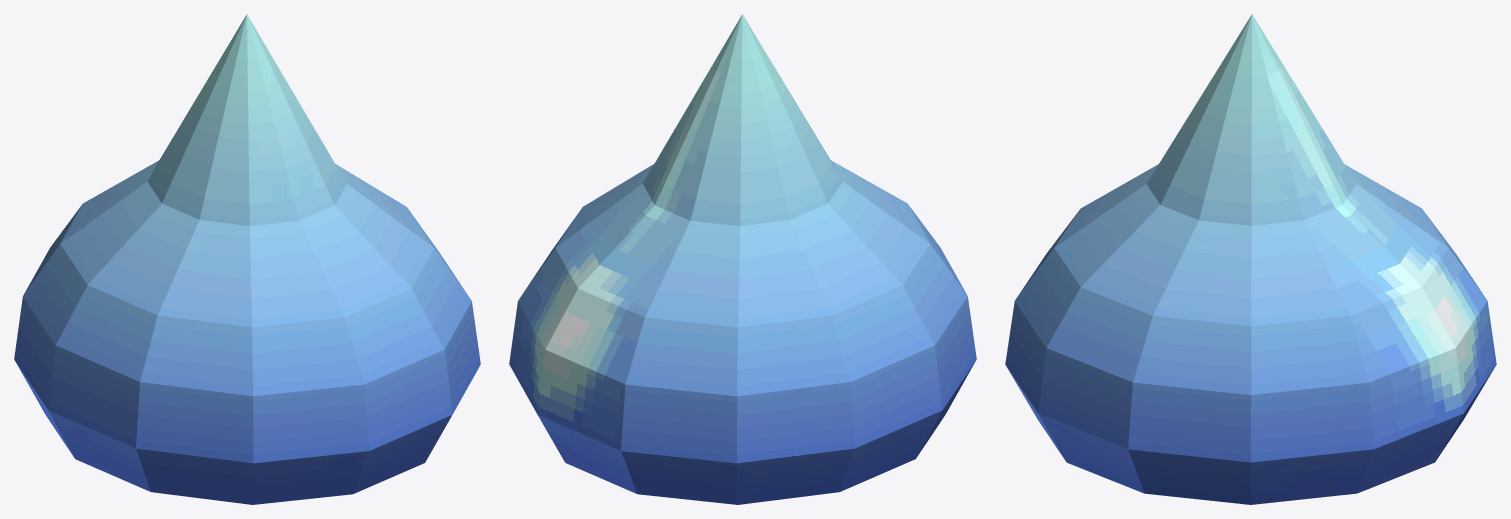
Rendered from BouncingBomb.obj.
The picture shows the model from 3 angles, left to right: view 1: azimuth 30°, elevation 25°; view 2: azimuth 150°, elevation 25°; view 3: azimuth 270°, elevation 25°; orthographic projection.
Visible parts, largest first — view 1: Mesh.206_DrawCall_328; view 2: Mesh.206_DrawCall_328; view 3: Mesh.206_DrawCall_328.
Boxes of the visible parts, left/top/right/bottom form: Mesh.206_DrawCall_328: left=14, top=14, right=480, bottom=504; Mesh.206_DrawCall_328: left=509, top=14, right=976, bottom=504; Mesh.206_DrawCall_328: left=1005, top=14, right=1496, bottom=504.
Bounding box in the file's own units: 10.4 × 10.04 × 11.01.
Materials: 2 (2 with a texture image).
